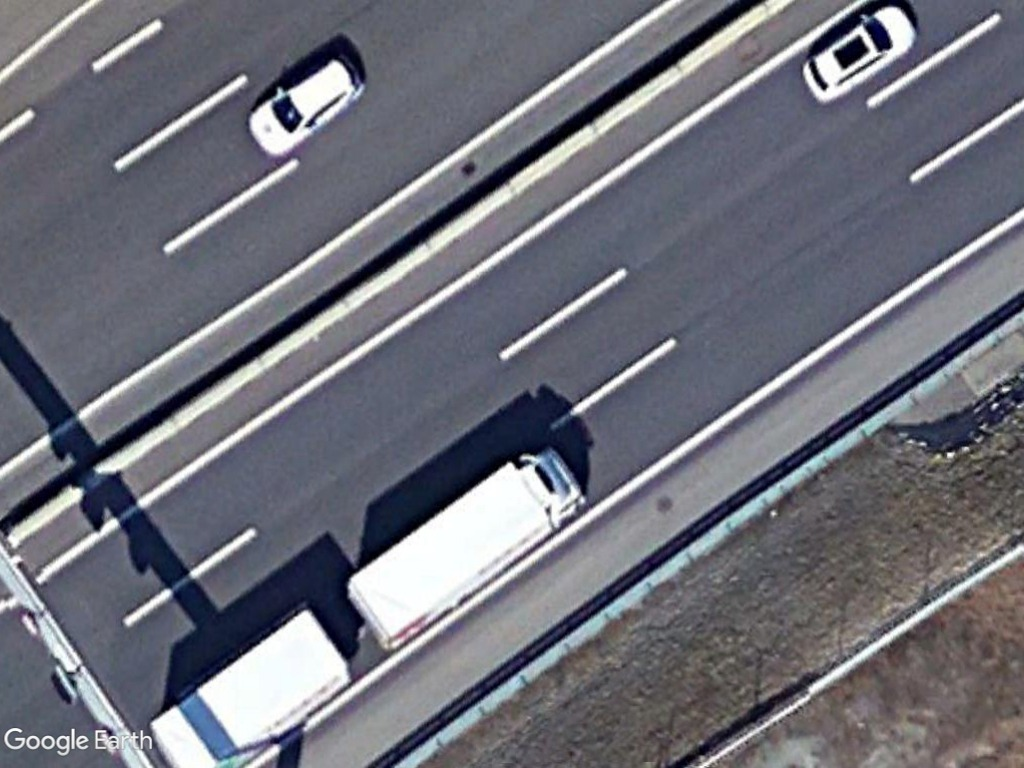car: (246, 52, 369, 161), (798, 4, 919, 106)
truck: (342, 446, 587, 656)
